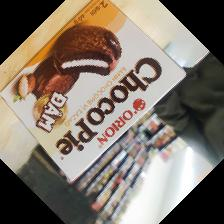Chocopie_cacao: (1, 1, 185, 185)
